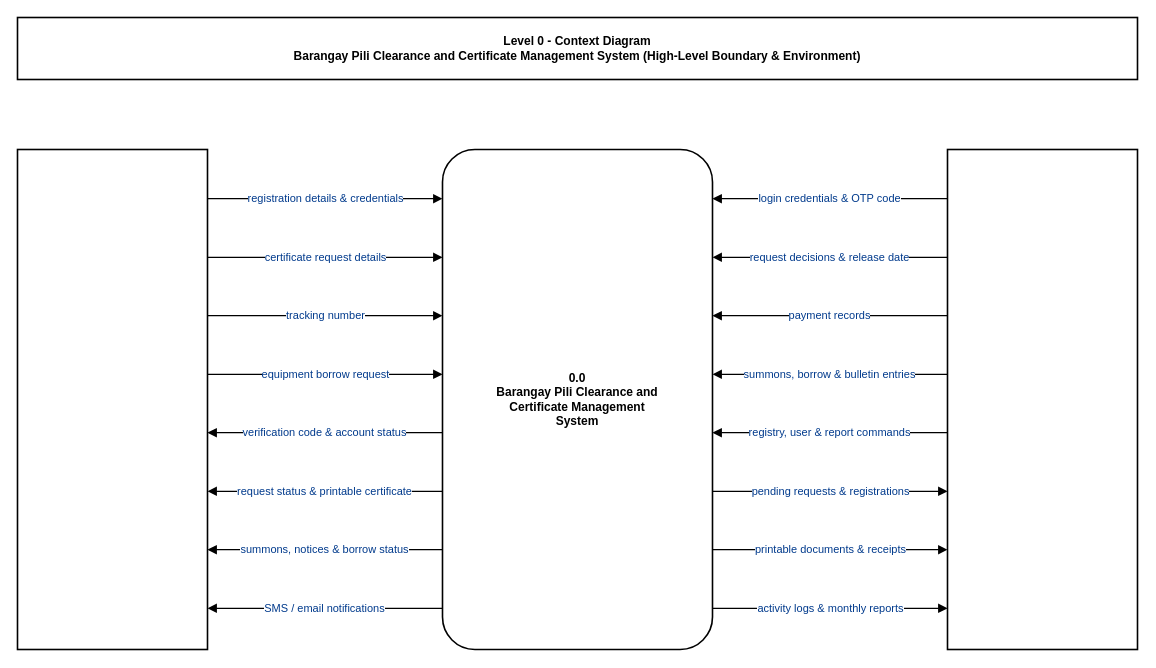
This 1156x668 diagram has some shape labels left out. The shapes that lost their labels are listed below. From the top down, each one's box as (x1, y1, x2, y2) in pixels, then its label:
(16, 148, 208, 650): RESIDENT Web Portal / Mobile App Applicant & Service User
(946, 148, 1138, 650): BARANGAY OFFICIALS Staff / Administrator Request Processor System Manager
